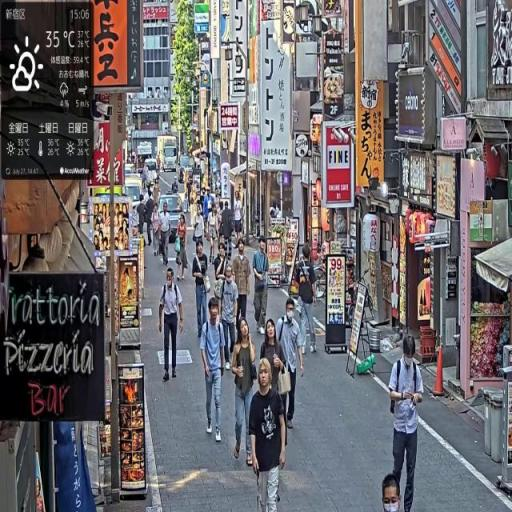person: (389, 334, 424, 512), (248, 358, 288, 511), (231, 317, 260, 467), (276, 294, 306, 435), (201, 299, 227, 444), (292, 244, 320, 363), (159, 266, 186, 383), (219, 261, 242, 373), (259, 318, 289, 400), (232, 238, 252, 336), (193, 240, 212, 343), (253, 236, 271, 336), (175, 213, 190, 282), (160, 203, 173, 267), (152, 203, 164, 261)
